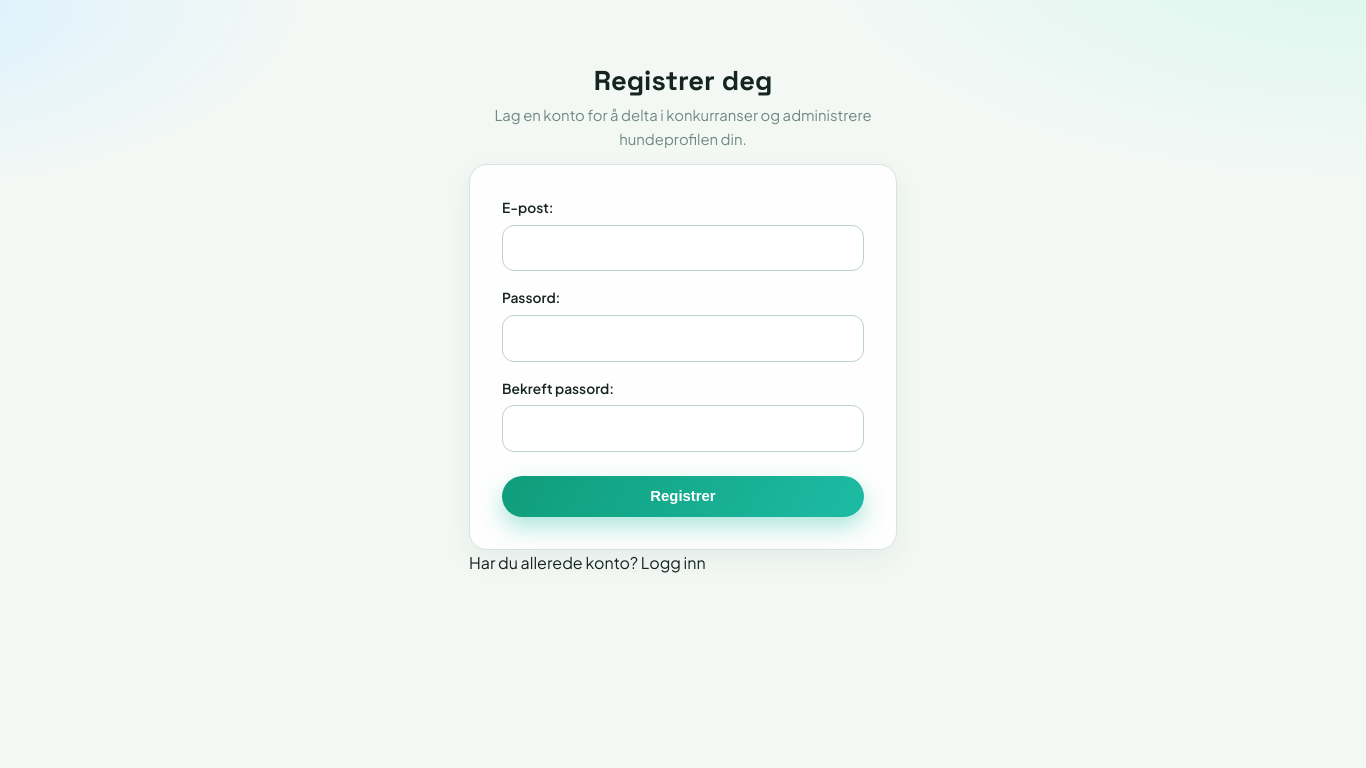
Test: RegisterView › shows error when passwords do not match
Type "thor@example.com" into the field with id "email" at [683, 248], box 502,225 -> 864,271
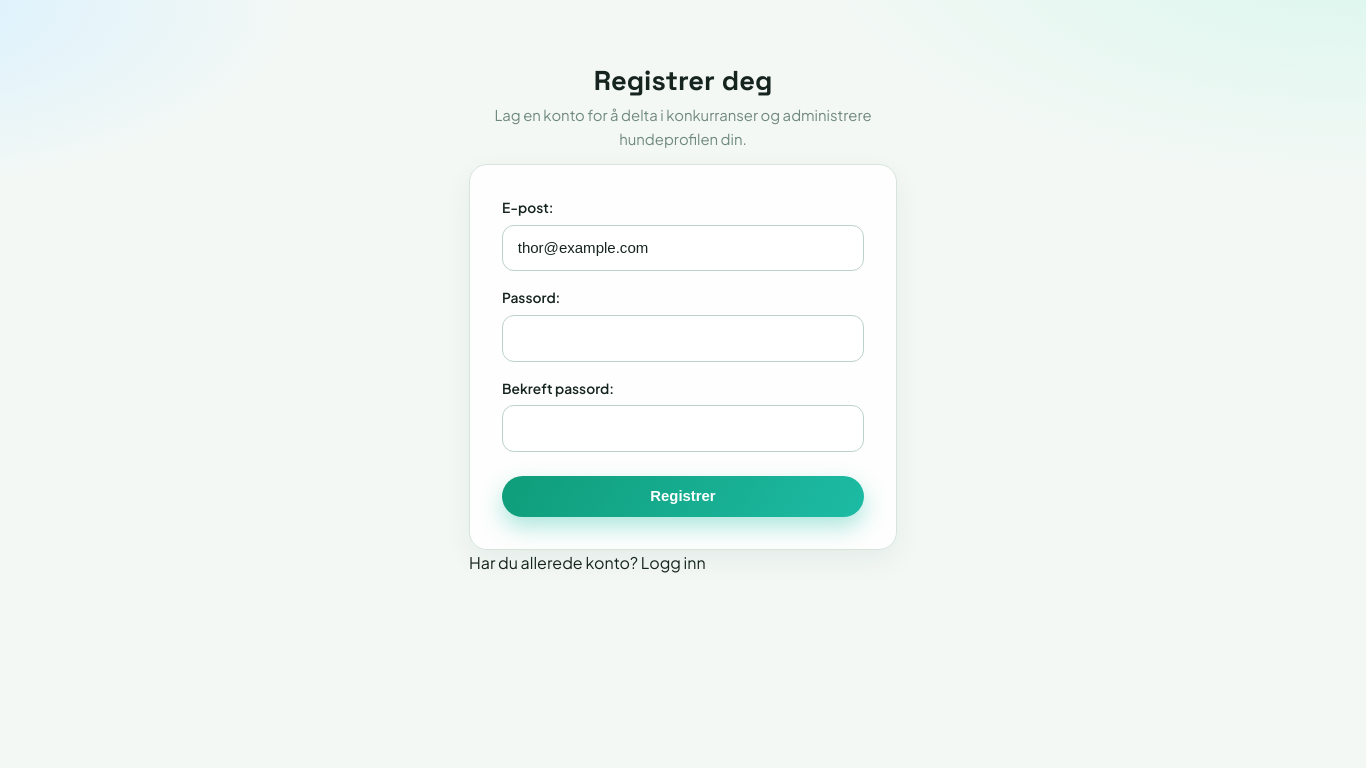
Type "secret" into the password field labelled "Passord:" at [683, 338], box 502,315 -> 864,362
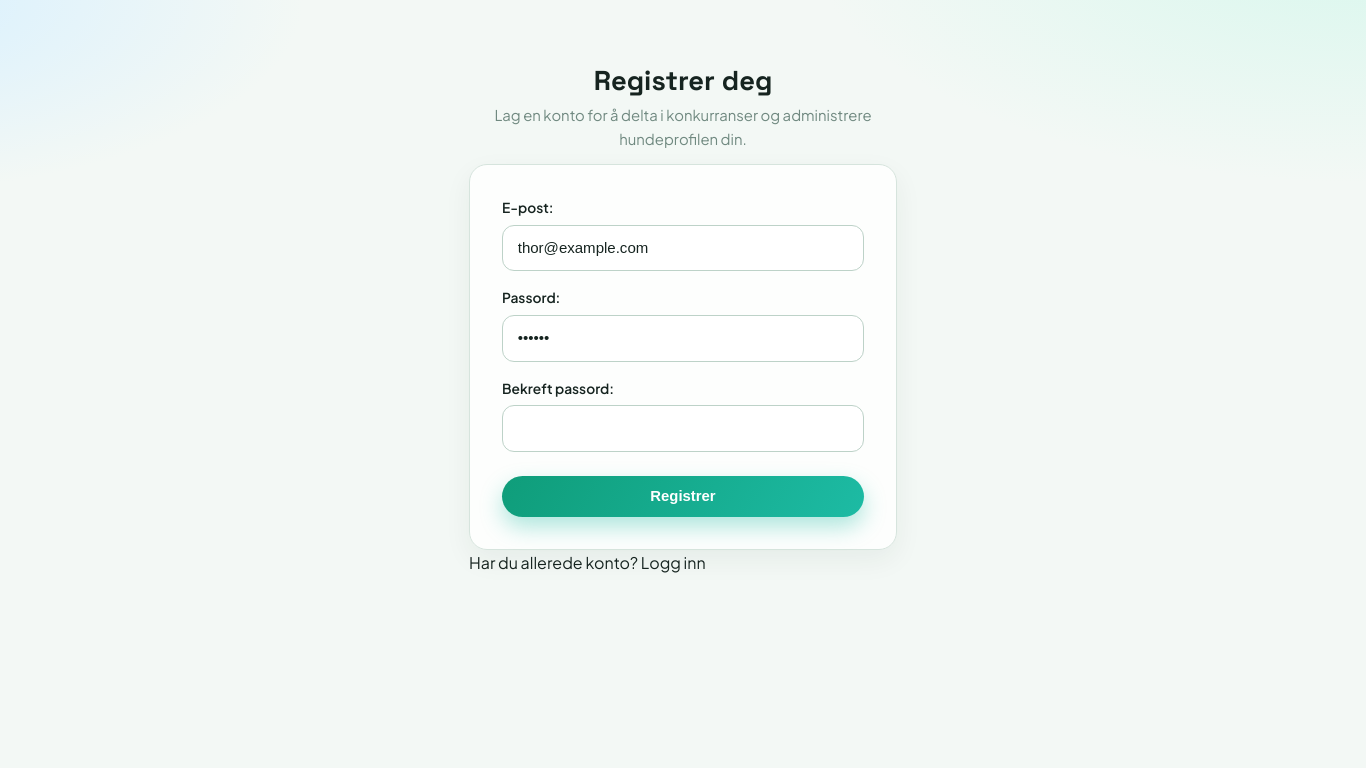
Type "different" into the password field with id "confirmPassword" at [683, 429], box 502,406 -> 864,452
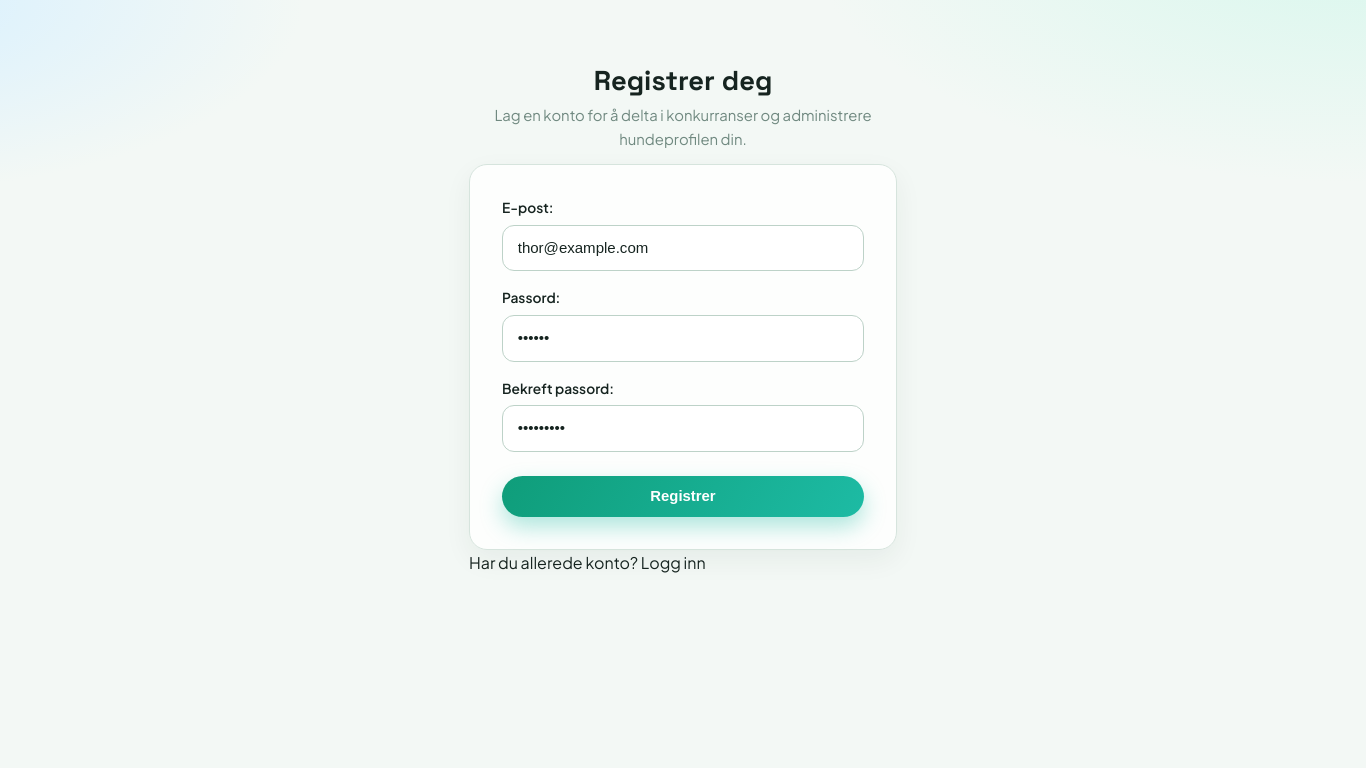
Submit the form, box 469,164 -> 897,550
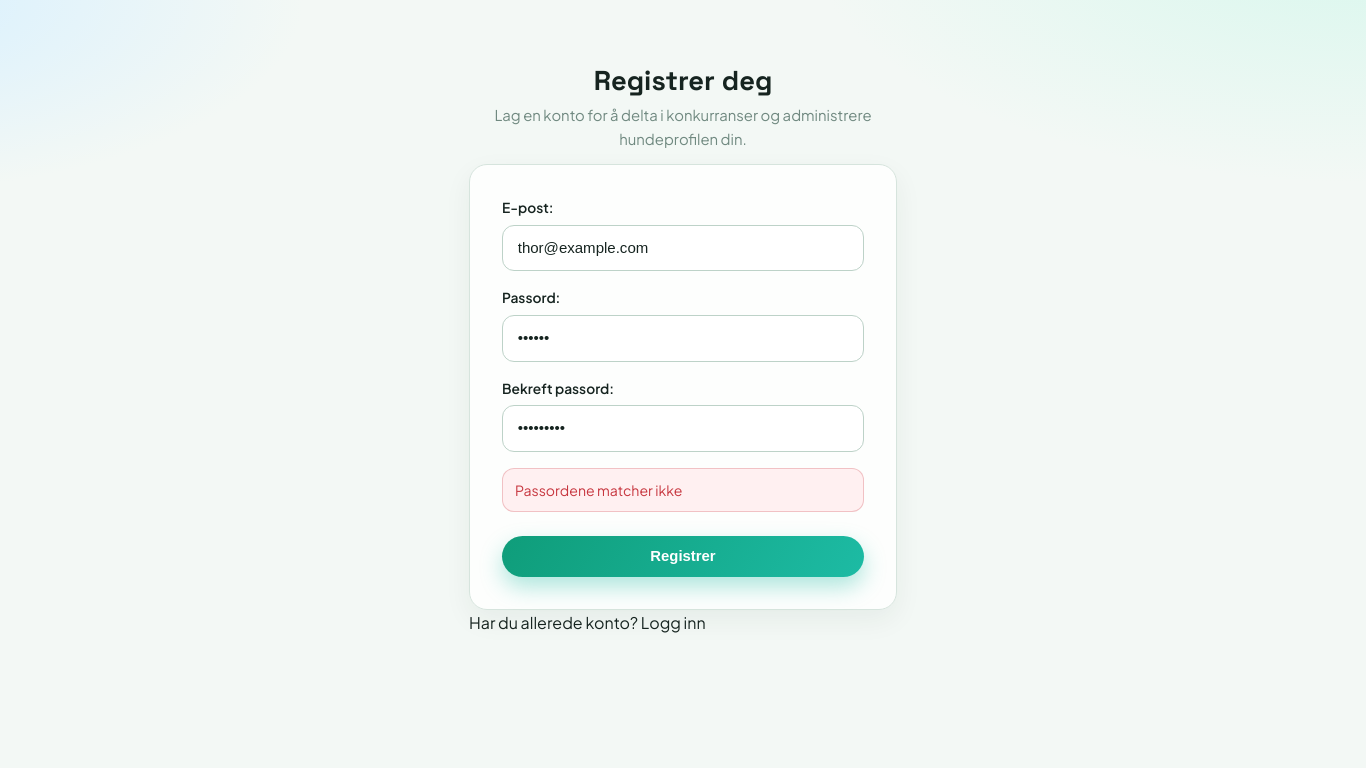
Result: the text "Passordene matcher ikke" is shown at 502,468 -> 864,512
